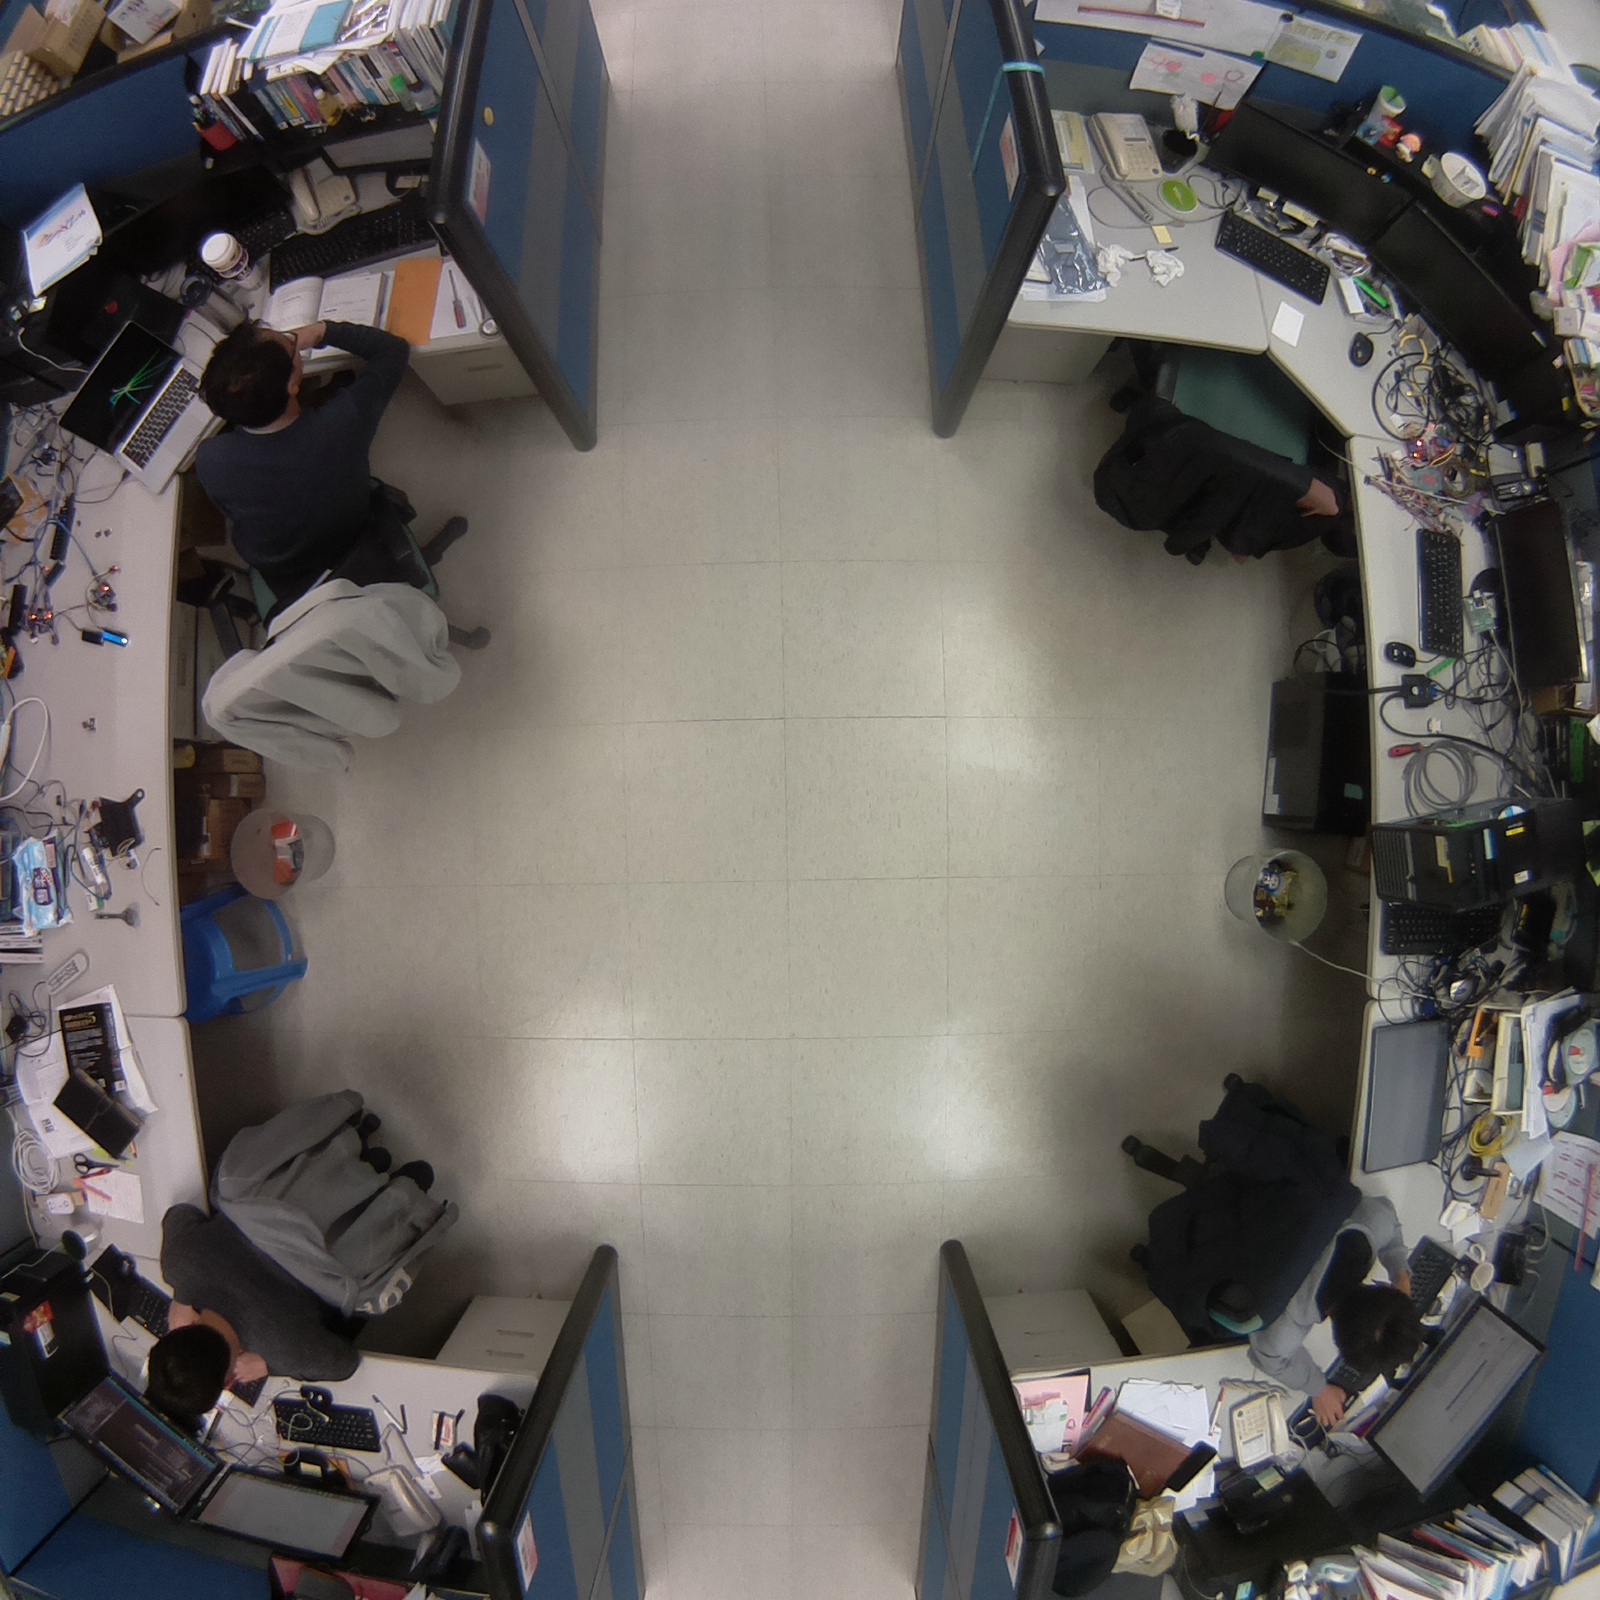chair: (1073, 312, 1366, 580)
sitting: (168, 308, 516, 799), (122, 1062, 476, 1445), (1103, 1067, 1446, 1458)
